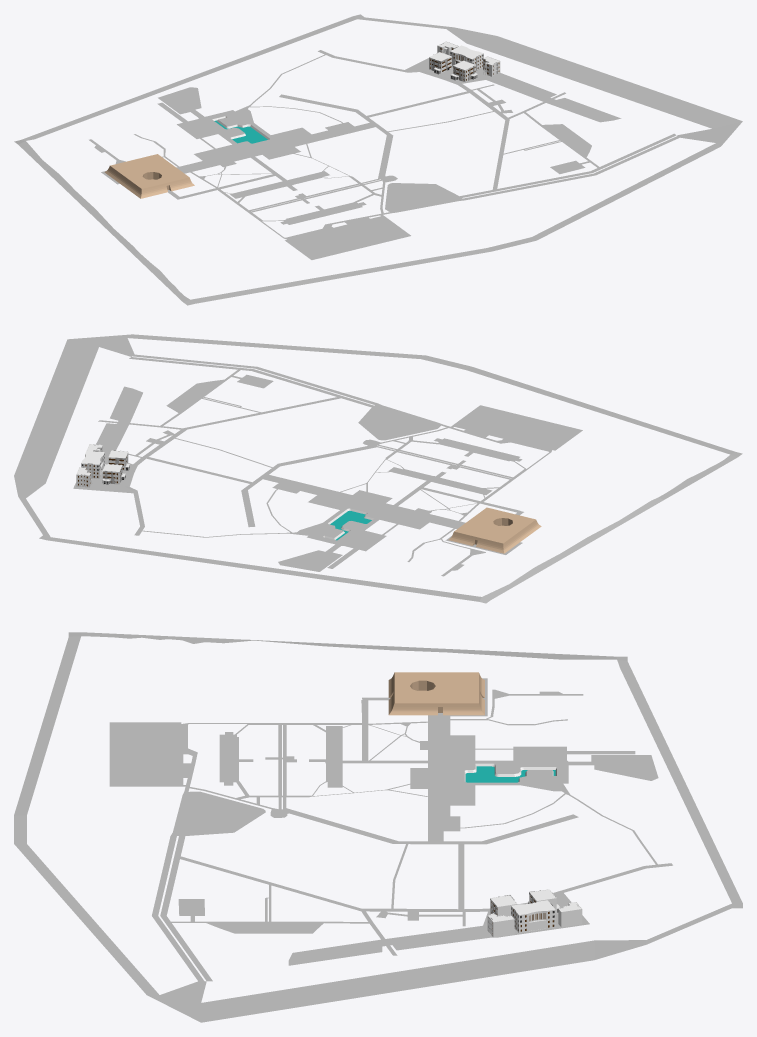
File: usthb_map_clone.gltf
The picture shows the model from 3 angles, top to bottom: view 1: azimuth 30°, elevation 25°; view 2: azimuth 150°, elevation 25°; view 3: azimuth 270°, elevation 25°; orthographic projection. The views are drawn at different scales.
Parts seen in each view (by area): view 1: route, village, fac de math; view 2: route, village, fac de math; view 3: route, village, fac de math.
Part boxes in pixels (bbox=[...]): route: bbox=[14, 14, 742, 305]; village: bbox=[104, 154, 194, 198]; fac de math: bbox=[429, 41, 500, 81]; route: bbox=[14, 334, 742, 603]; village: bbox=[448, 507, 541, 553]; fac de math: bbox=[76, 444, 129, 487]; route: bbox=[14, 632, 742, 1022]; village: bbox=[388, 672, 484, 715]; fac de math: bbox=[487, 889, 582, 937].
Size of the model in its own units: 1456 by 36.68 by 1149.
1 material, 1 textured.
